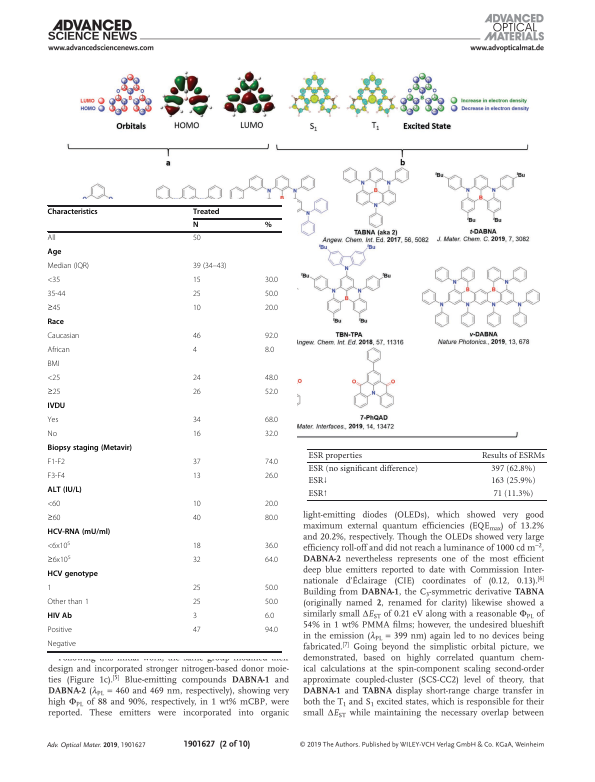borderless: (46, 204, 281, 651), (305, 447, 547, 500)
cell: (307, 464, 419, 474), (47, 444, 133, 454), (481, 451, 546, 461), (47, 528, 111, 538), (307, 451, 363, 461), (47, 570, 99, 580), (47, 208, 99, 217), (492, 488, 534, 499), (490, 464, 536, 474), (490, 476, 536, 486), (47, 262, 90, 272), (47, 598, 90, 608), (47, 486, 83, 496), (192, 262, 227, 272), (47, 332, 80, 342), (47, 640, 77, 650), (47, 555, 72, 566), (47, 541, 71, 552), (47, 612, 73, 622), (47, 626, 73, 636), (192, 208, 220, 217), (307, 488, 329, 499), (47, 346, 71, 356), (307, 476, 329, 486), (47, 290, 66, 300), (47, 402, 66, 412), (47, 458, 66, 468), (47, 472, 66, 482), (47, 318, 65, 328), (47, 248, 62, 258), (264, 276, 279, 286), (264, 290, 279, 300), (264, 304, 279, 314), (264, 332, 279, 342), (264, 374, 279, 384), (264, 388, 279, 398), (264, 416, 279, 426), (264, 430, 279, 440), (264, 458, 279, 468), (264, 472, 279, 482), (264, 500, 279, 510), (264, 514, 279, 524), (264, 542, 279, 552), (264, 556, 279, 566), (264, 584, 279, 594), (264, 598, 279, 608), (264, 626, 279, 636), (47, 276, 61, 286), (47, 304, 61, 314), (47, 374, 61, 384), (47, 388, 61, 398), (47, 500, 61, 510), (47, 514, 61, 524), (47, 360, 60, 370), (47, 416, 59, 426), (264, 346, 275, 356), (47, 430, 58, 440), (264, 612, 275, 622), (192, 234, 202, 244), (192, 276, 202, 286), (192, 290, 202, 300), (192, 304, 202, 314), (192, 332, 202, 342), (192, 374, 202, 384), (192, 388, 202, 398), (192, 416, 202, 426), (192, 430, 202, 440), (192, 458, 202, 468), (192, 472, 202, 482), (192, 500, 202, 510), (192, 514, 202, 524), (192, 542, 202, 552), (192, 556, 202, 566), (192, 584, 202, 594), (192, 598, 202, 608), (192, 626, 202, 636), (264, 221, 273, 231), (47, 234, 56, 244), (192, 221, 199, 231), (192, 346, 198, 356), (192, 612, 198, 622), (47, 584, 52, 594)
